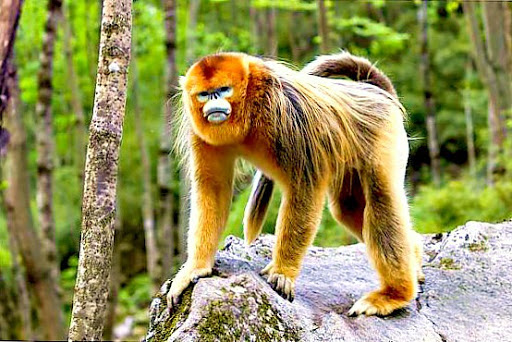GoldenSnub-Nosed: (178, 50, 426, 295)
